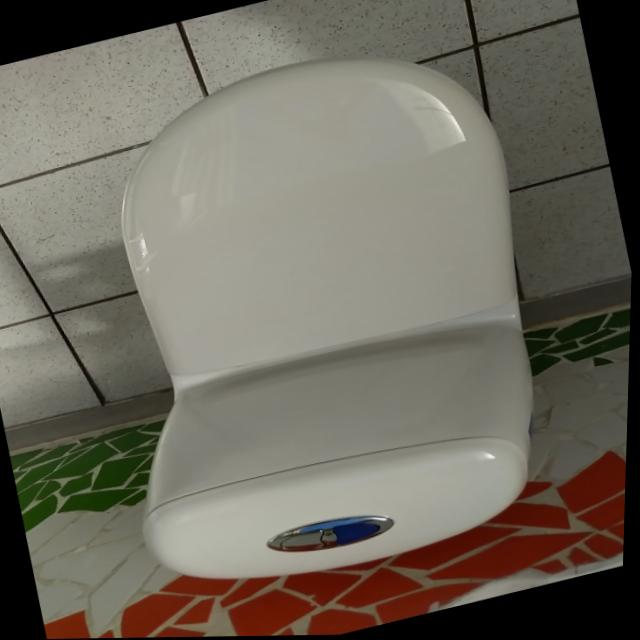toilet: (46, 18, 591, 615)
